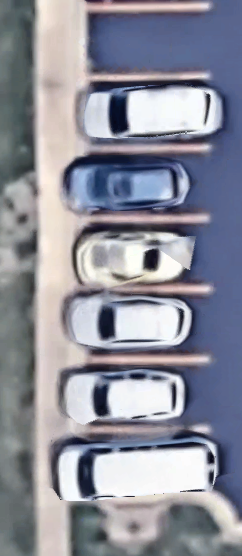Occupied: (85, 147, 210, 220), (86, 219, 210, 291), (85, 77, 211, 147), (86, 359, 208, 430), (86, 290, 209, 360), (85, 431, 208, 495)
Vacant: (86, 7, 210, 78)
